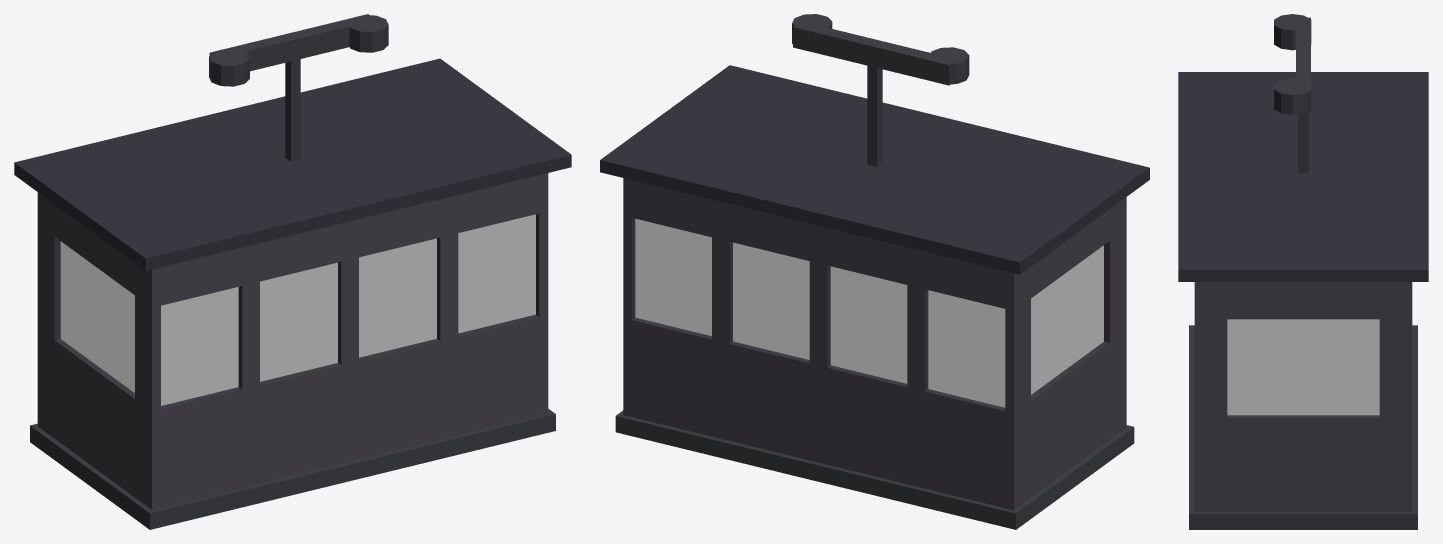
The model's file is gondola_cabin.glb.
3 renders of one model, left to right at view 1: azimuth 30°, elevation 25°; view 2: azimuth 150°, elevation 25°; view 3: azimuth 270°, elevation 25°, orthographic. The views are drawn at different scales.
Parts seen in each view (by area): view 1: gondola_cabin; view 2: gondola_cabin; view 3: gondola_cabin.
Boxes of the visible parts, <box> form: gondola_cabin: <box>14,14,571,529</box>; gondola_cabin: <box>600,14,1149,529</box>; gondola_cabin: <box>1178,14,1428,529</box>.
Bounding box in the file's own units: 4.3 × 4.05 × 2.3.
5 materials, 1 textured.
